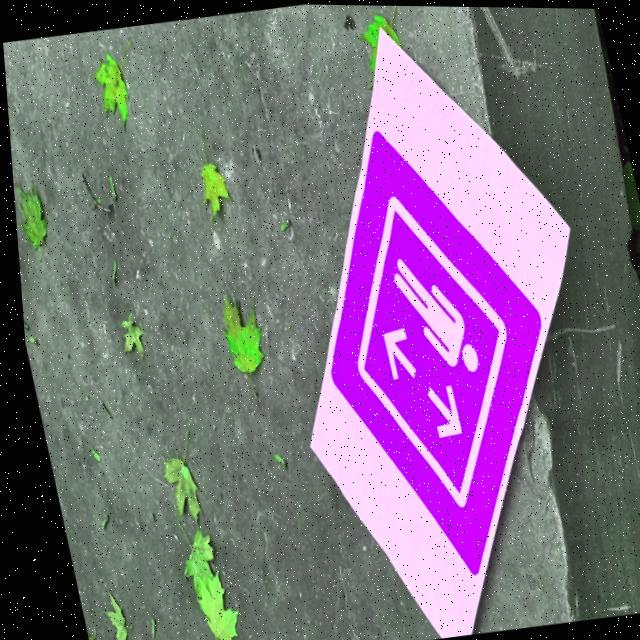elevator: (332, 132, 540, 574)
